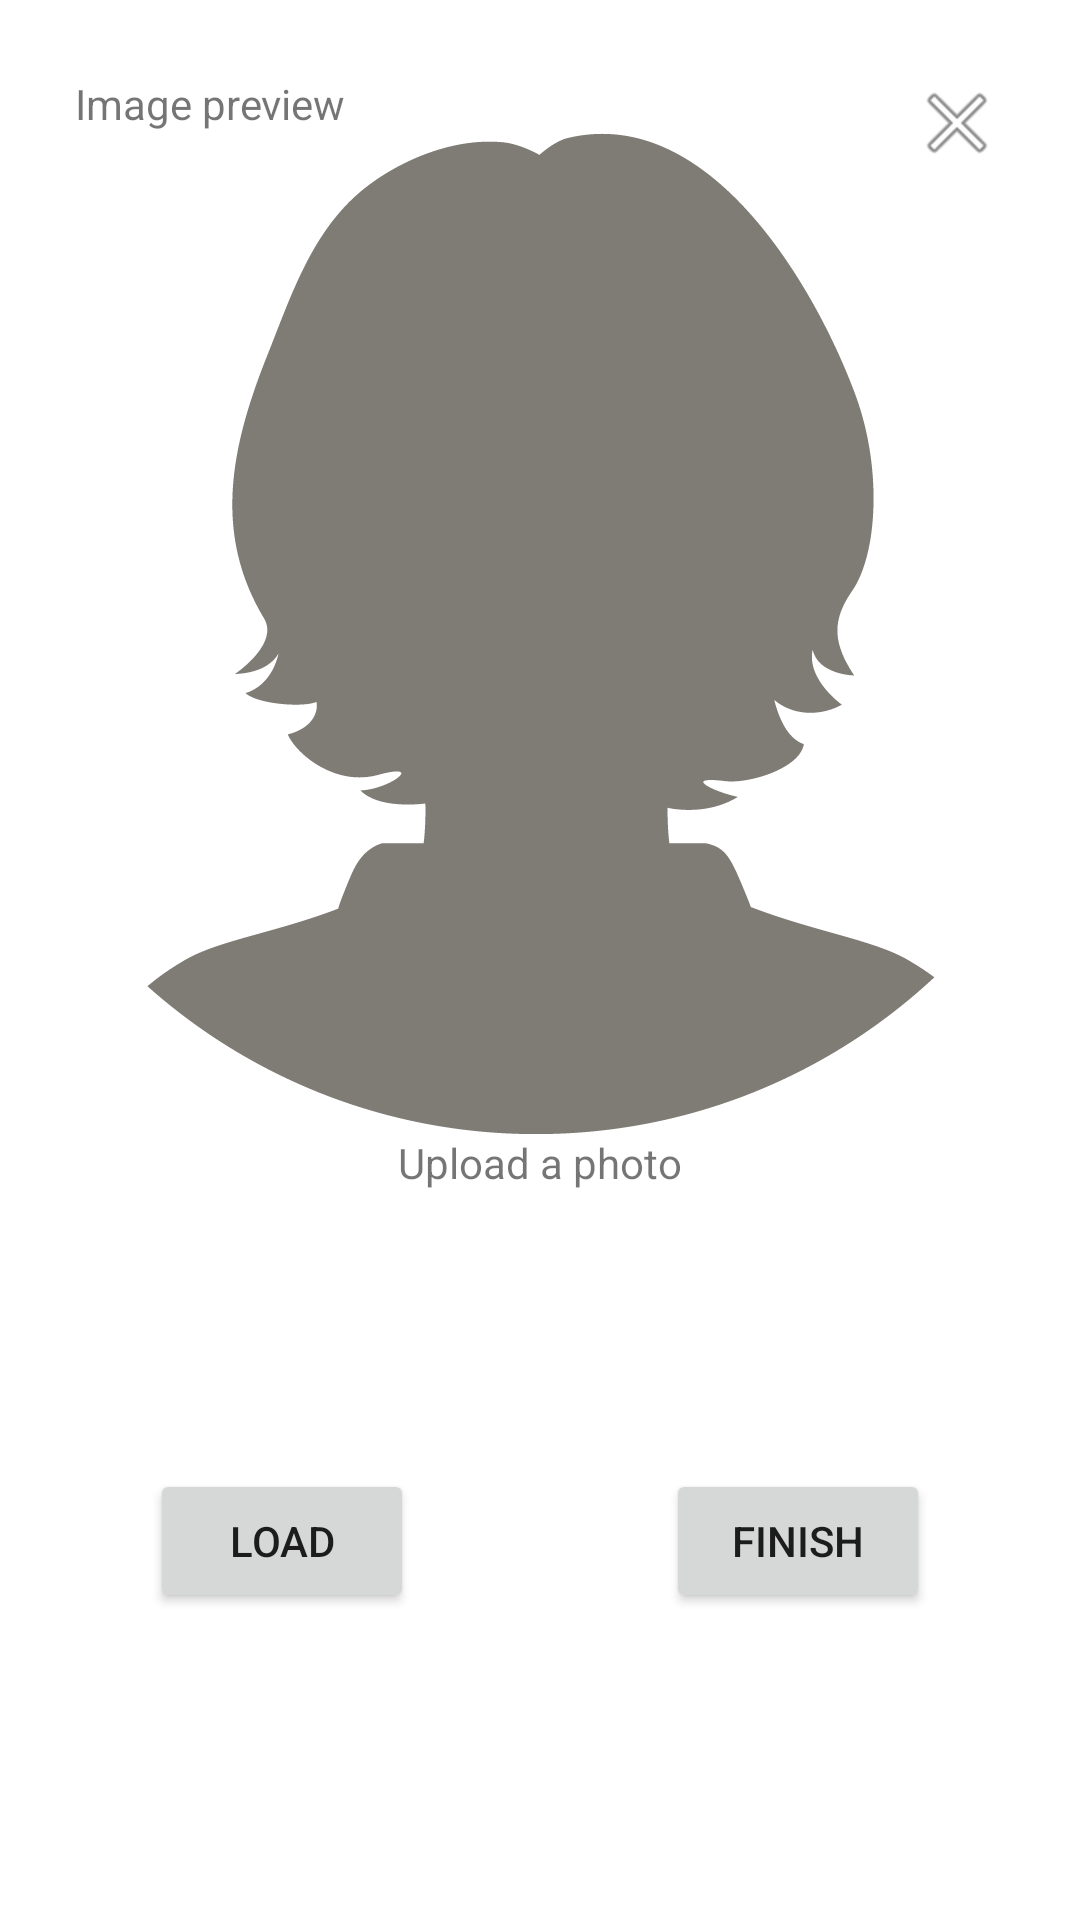

Icons on this 1080x1920 Android screen, each with the point to tap as (x=x, y=y):
close clear cancel: (x=957, y=123)
